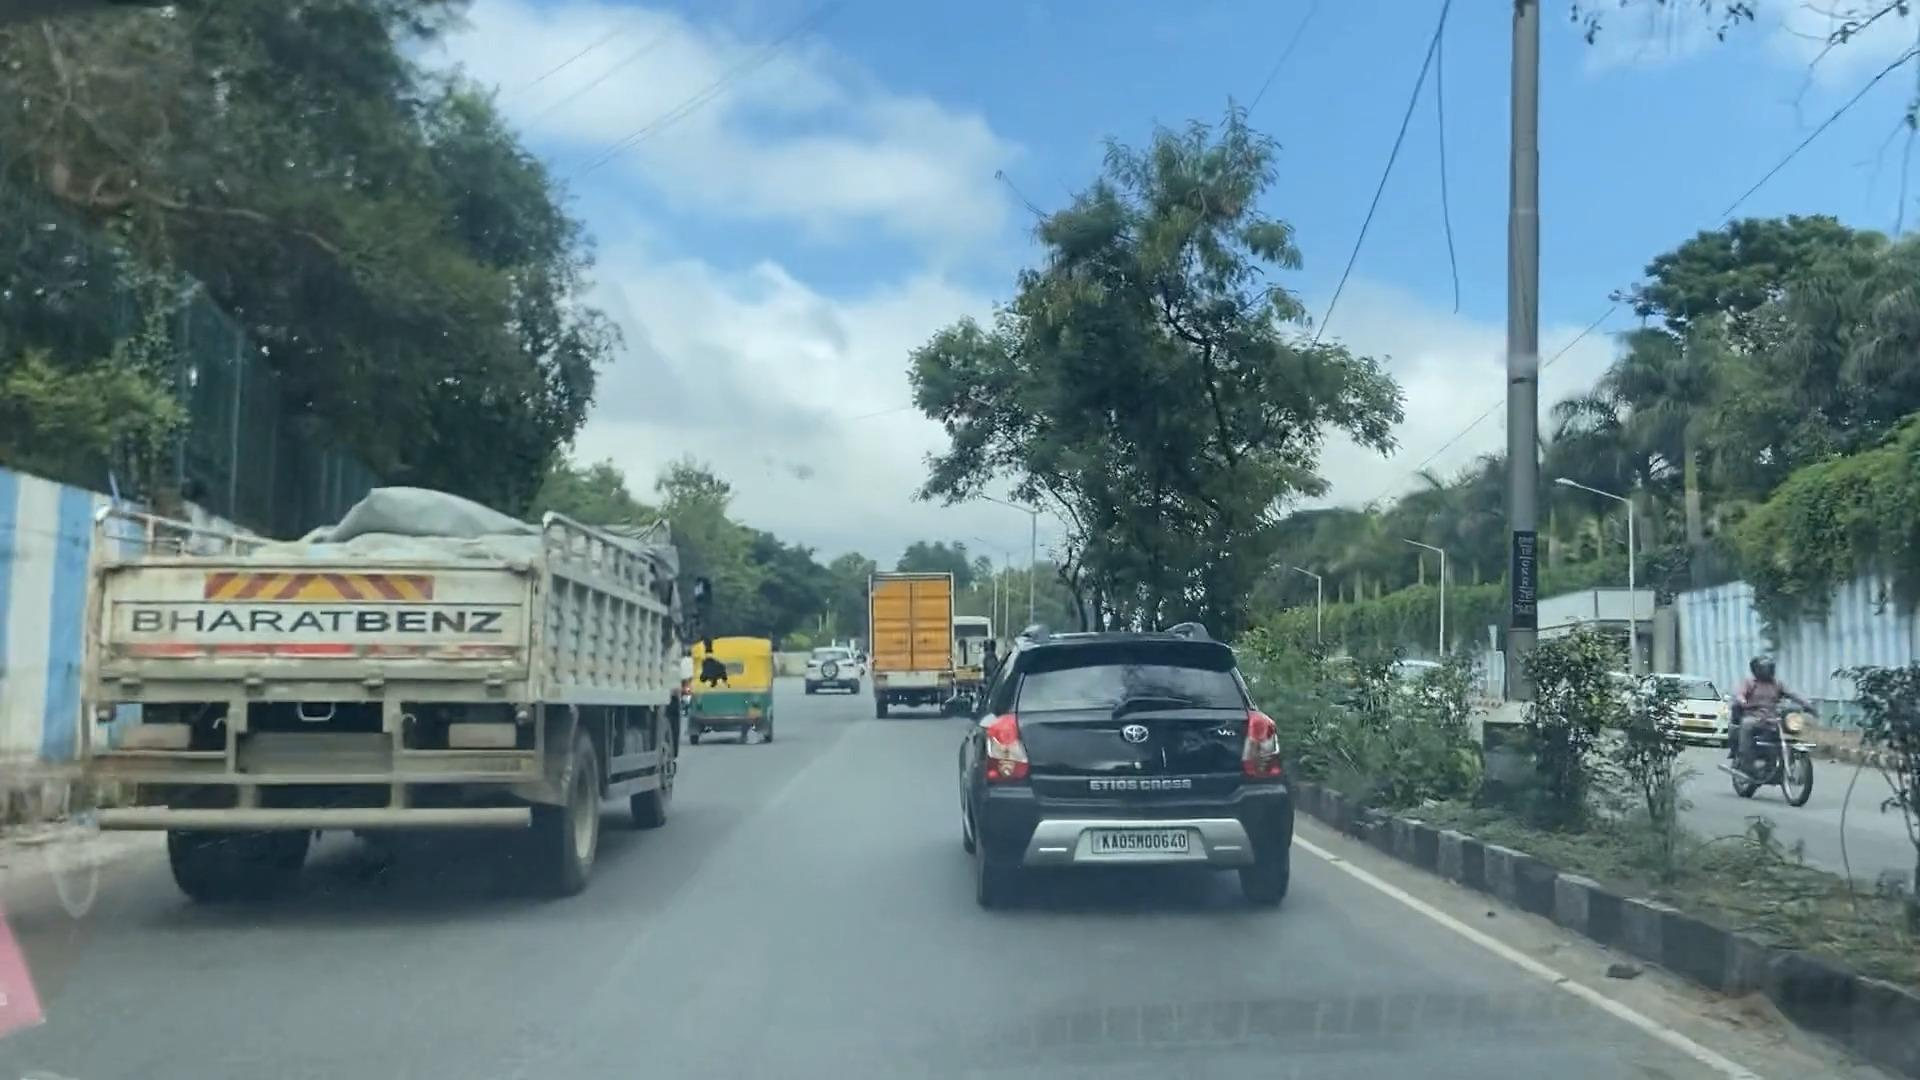HMV: (121, 505, 683, 887), (860, 568, 957, 716)
LMV: (959, 642, 1290, 913)
